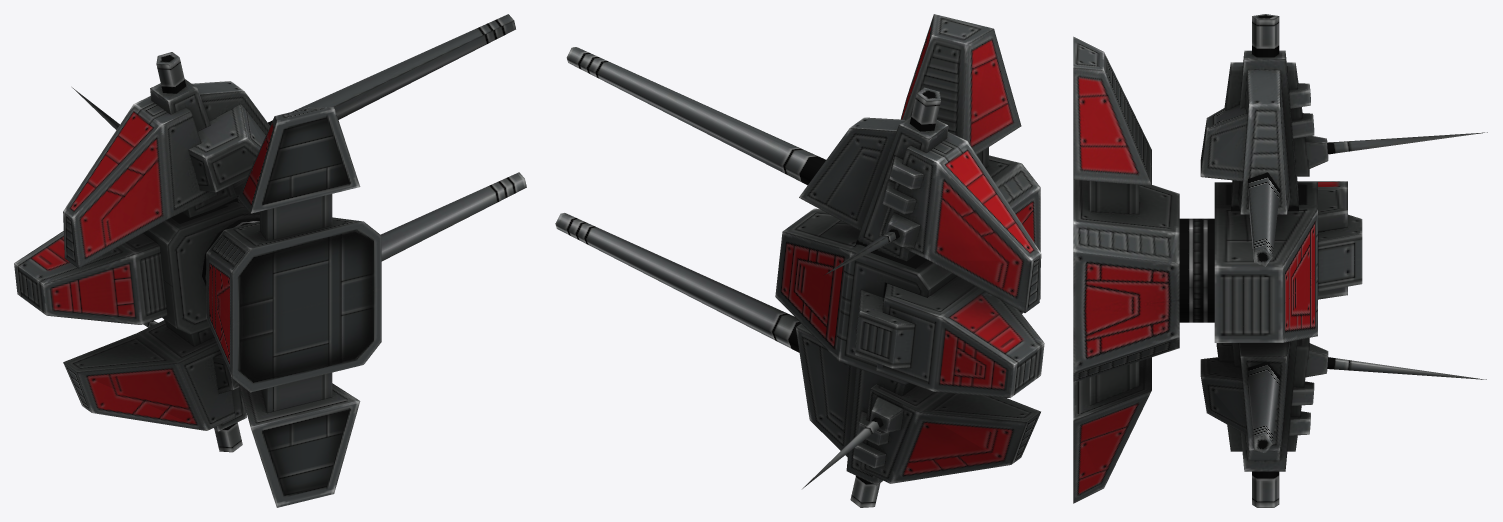
The model's file is Sentry1.fbx.
3 views of the same model, side by side, from view 1: azimuth 30°, elevation 25°; view 2: azimuth 150°, elevation 25°; view 3: azimuth 270°, elevation 25° (orthographic). The views are drawn at different scales.
Visible parts, largest first — view 1: turret_2_b, turret_2_0, turret_2_1, turret_2_t; view 2: turret_2_0, turret_2_t, turret_2_1, turret_2_b; view 3: turret_2_b, turret_2_t, turret_2_0, turret_2_1.
Part boxes in pixels (bbox=[...]): turret_2_b: bbox=[206, 107, 381, 507]; turret_2_0: bbox=[63, 14, 515, 268]; turret_2_1: bbox=[63, 172, 526, 452]; turret_2_t: bbox=[14, 184, 259, 334]; turret_2_0: bbox=[566, 47, 1041, 312]; turret_2_t: bbox=[775, 208, 1044, 397]; turret_2_1: bbox=[555, 213, 1040, 507]; turret_2_b: bbox=[900, 14, 1040, 313]; turret_2_b: bbox=[1073, 36, 1179, 503]; turret_2_t: bbox=[1179, 181, 1362, 342]; turret_2_0: bbox=[1200, 14, 1487, 266]; turret_2_1: bbox=[1200, 338, 1486, 507].
Size of the model in its own units: 174 by 144 by 118.
